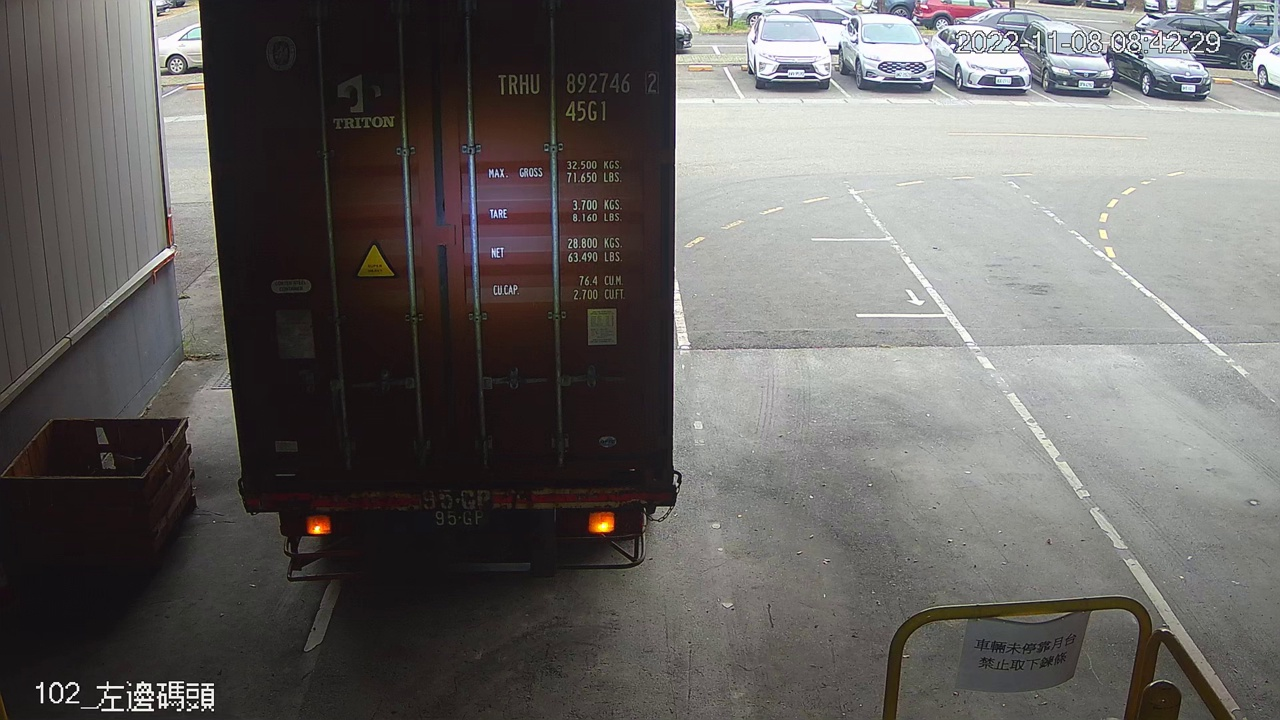container: (487, 63, 666, 131)
